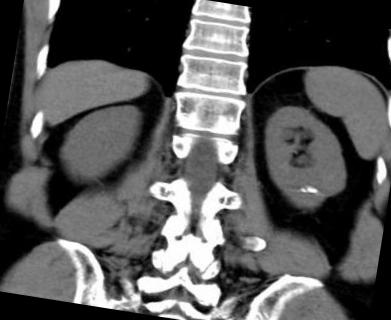Tas_Var: (306, 186, 318, 196), (299, 186, 306, 195)
